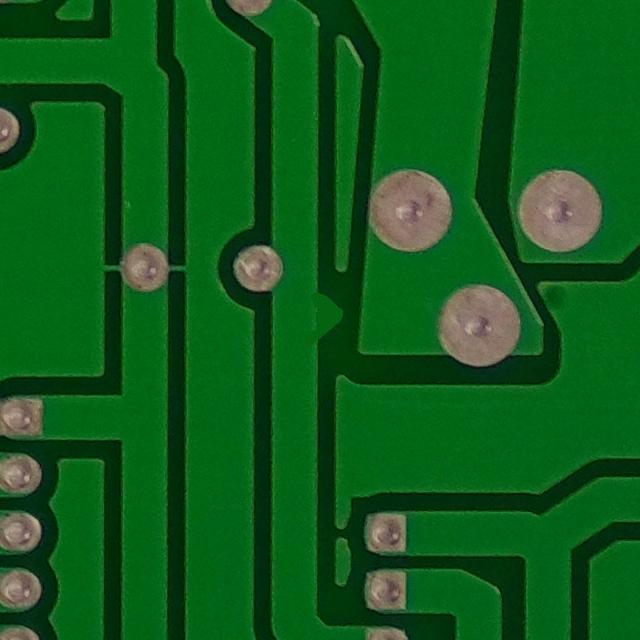spur: (286, 277, 355, 363)
